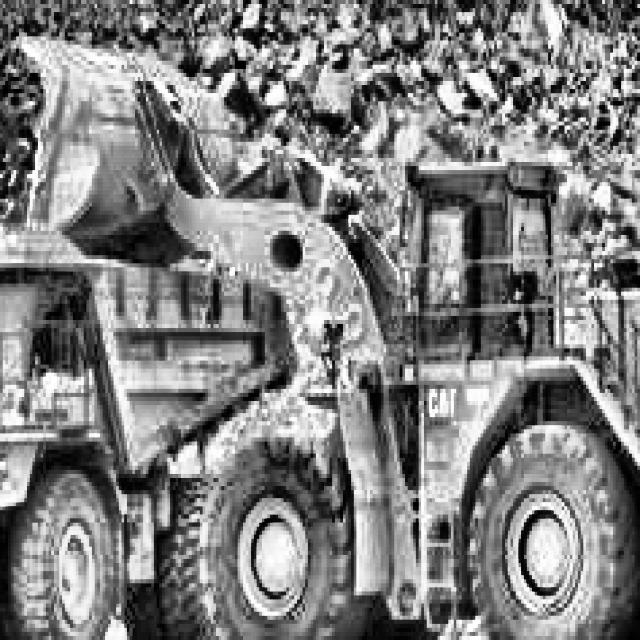buldozerpayloadergrader: (2, 0, 640, 640)
dump_truck: (0, 218, 281, 640)
